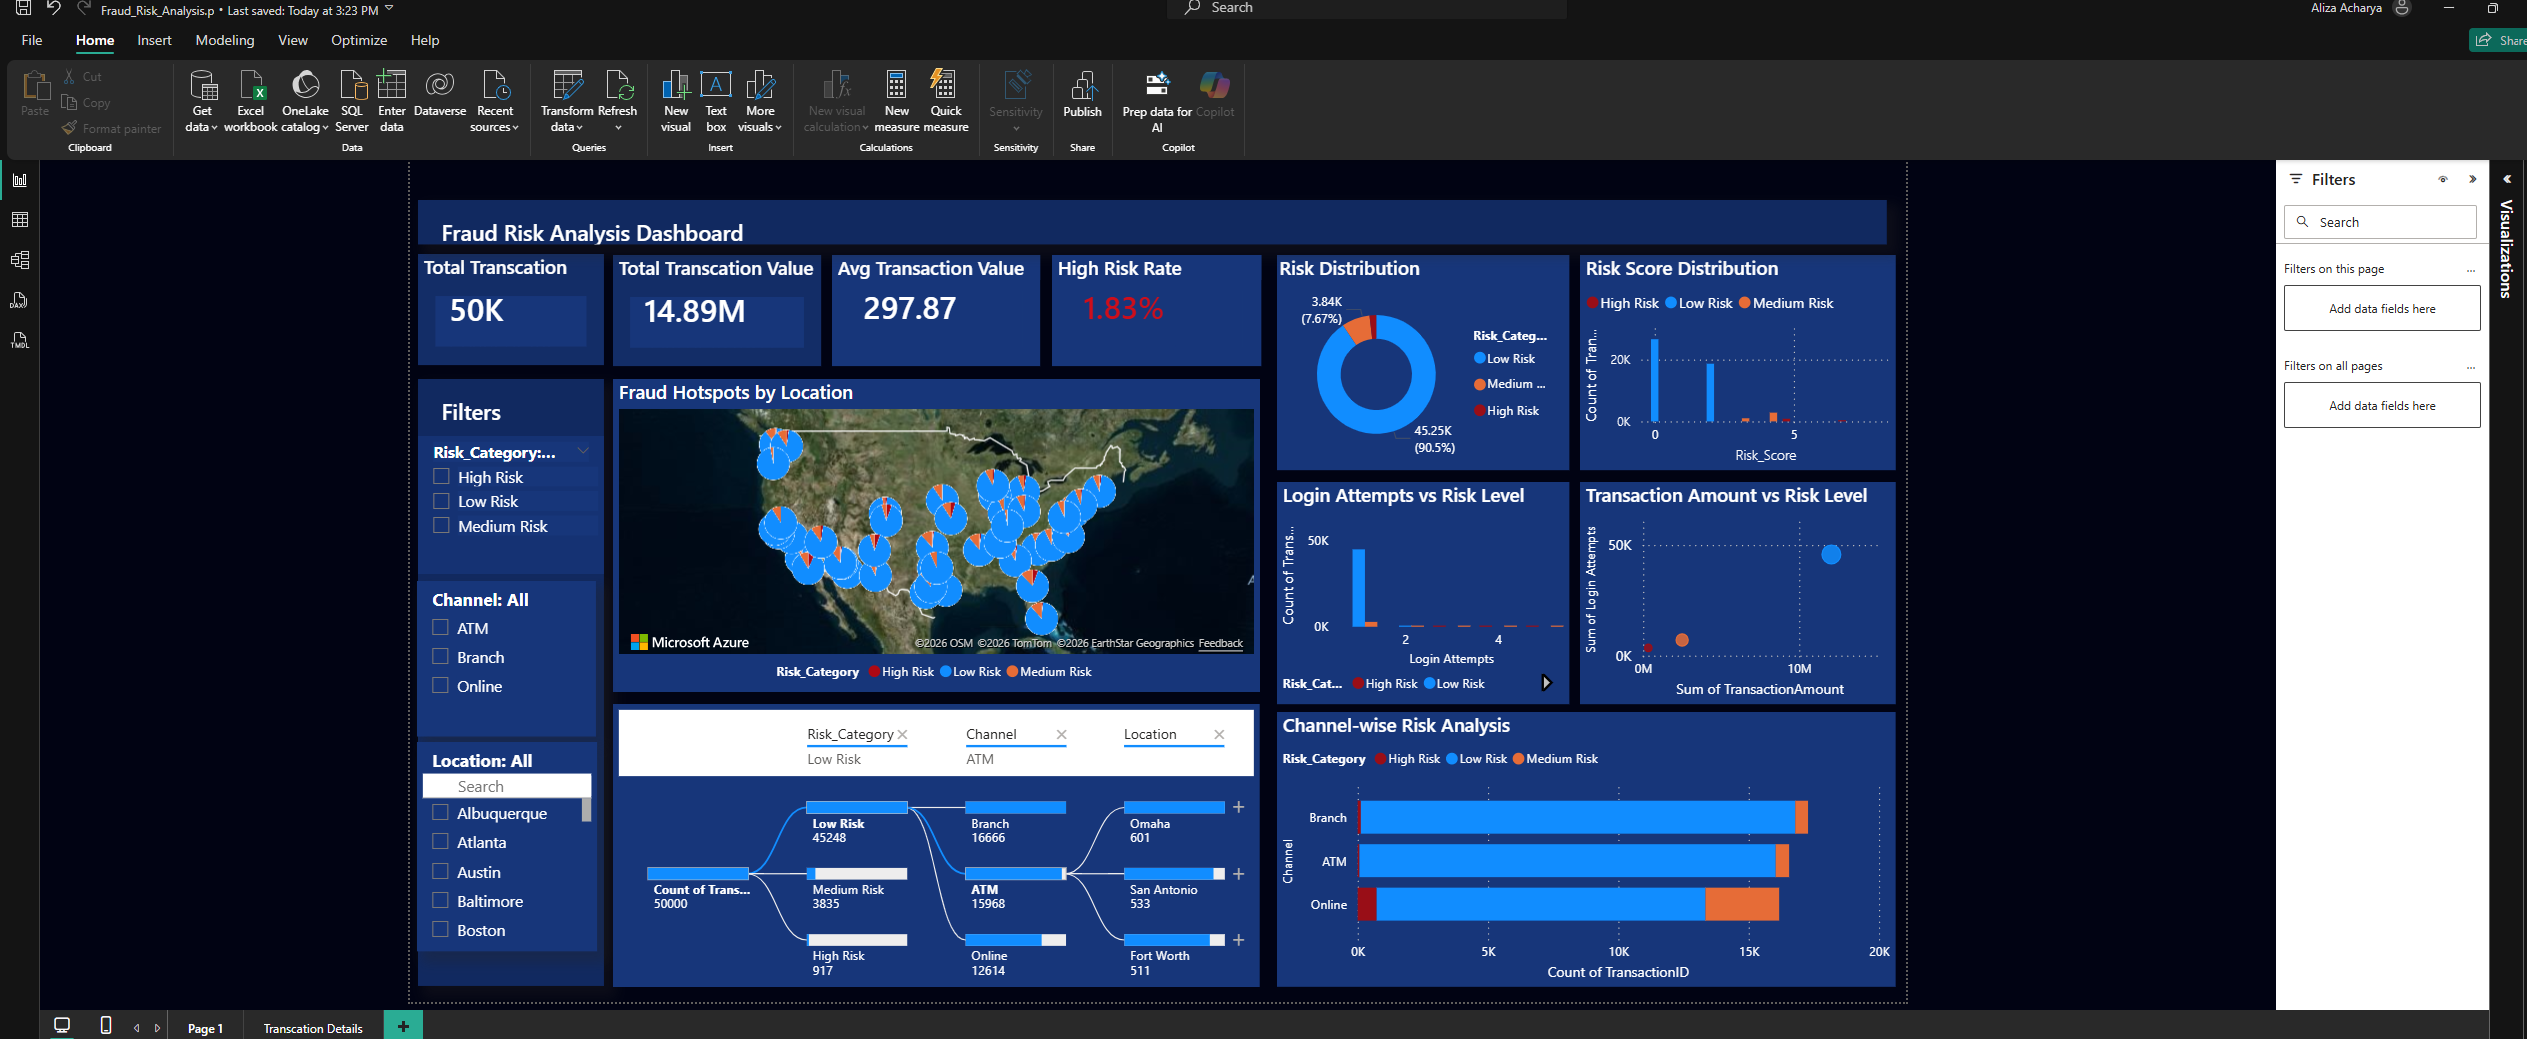

The page's visual inventory and layout, read from the dashboard file:
{"tool":"powerbi","page":{"name":"Page 1","canvas":[1280,720],"ordinal":0},"visuals":[{"type":"textbox","title":"Filters","box":[6.9,187.5,159,519.3],"z":0},{"type":"cardVisual","title":"Total Transcation","fields":{"Data":["CountNonNull(fraud_risk_analysis_transactions csv.TransactionID)"]},"box":[6.9,80.5,159,95.2],"z":2000},{"type":"cardVisual","title":"Avg Transaction Value","fields":{"Data":["Avg(fraud_risk_analysis_transactions csv.TransactionAmount)"]},"box":[361.2,81.5,178,95],"z":3000},{"type":"barChart","title":"Channel-wise Risk Analysis","fields":{"Y":["CountNonNull(fraud_risk_analysis_transactions csv.TransactionID)"],"Category":["fraud_risk_analysis_transactions csv.Channel"],"Series":["fraud_risk_analysis_transactions csv.Risk_Category"]},"box":[741.5,472.3,528.8,234.8],"z":4000},{"type":"clusteredColumnChart","title":"Login Attempts vs Risk Level","fields":{"Category":["fraud_risk_analysis_transactions csv.LoginAttempts"],"Y":["CountNonNull(fraud_risk_analysis_transactions csv.TransactionID)"],"Series":["fraud_risk_analysis_transactions csv.Risk_Category"]},"box":[741.5,275.4,249.8,189.8],"z":5000},{"type":"donutChart","title":"Risk Distribution","fields":{"Category":["fraud_risk_analysis_transactions csv.Risk_Category"],"Y":["CountNonNull(fraud_risk_analysis_transactions csv.TransactionID)"]},"box":[741.5,81.2,249.8,183.6],"z":6000},{"type":"clusteredColumnChart","title":"Risk Score Distribution","fields":{"Category":["fraud_risk_analysis_transactions csv.Risk_Score"],"Y":["CountNonNull(fraud_risk_analysis_transactions csv.TransactionID)"],"Series":["fraud_risk_analysis_transactions csv.Risk_Category"]},"box":[1000.2,81.2,270.1,183.6],"z":7000},{"type":"scatterChart","title":"Transaction Amount vs Risk Level","fields":{"X":["Sum(fraud_risk_analysis_transactions csv.TransactionAmount)"],"Y":["Sum(fraud_risk_analysis_transactions csv.LoginAttempts)"],"Size":["Sum(fraud_risk_analysis_transactions csv.Risk_Score)"],"Series":["fraud_risk_analysis_transactions csv.Risk_Category"]},"box":[1000.2,275.4,270.1,189.8],"z":8000},{"type":"azureMap","title":"Fraud Hotspots by Location","fields":{"Category":["fraud_risk_analysis_transactions csv.Location"],"Size":["CountNonNull(fraud_risk_analysis_transactions csv.TransactionID)"],"Series":["fraud_risk_analysis_transactions csv.Risk_Category"]},"box":[173.9,187.1,553.5,267.5],"z":10000},{"type":"slicer","fields":{"Values":["fraud_risk_analysis_transactions csv.Risk_Category"]},"box":[6.9,235.6,159,117.8],"z":11000},{"type":"slicer","fields":{"Values":["fraud_risk_analysis_transactions csv.Channel"]},"box":[5.9,360.2,153.1,133.5],"z":12000},{"type":"slicer","fields":{"Values":["fraud_risk_analysis_transactions csv.Location"]},"box":[5.9,497.7,154.1,178.7],"z":13000},{"type":"cardVisual","title":"Total Transcation Value","fields":{"Data":["Sum(fraud_risk_analysis_transactions csv.TransactionAmount)"]},"box":[173.7,81.5,178,95],"z":14000},{"type":"textbox","title":"Fraud Risk Analysis Dashboard","box":[6.9,34.4,1256.4,38.3],"z":15000},{"type":"cardVisual","title":"High Risk Rate","fields":{"Data":["fraud_risk_analysis_transactions csv.HighRisk %"]},"box":[548.7,81.5,178.7,95.2],"z":16000},{"type":"decompositionTreeVisual","fields":{"Analyze":["CountNonNull(fraud_risk_analysis_transactions csv.TransactionID)"],"ExplainBy":["fraud_risk_analysis_transactions csv.Risk_Category","fraud_risk_analysis_transactions csv.Channel","fraud_risk_analysis_transactions csv.Location","fraud_risk_analysis_transactions csv.LoginAttempts"]},"box":[173.9,465.2,553.5,241.9],"z":17000}]}

Visuals, with their boxes on the page's 1280x720 design canvas (x1, y1, x2, y2). These are canvas units, not pixel positions in the 2527x1039 screenshot, which may show the page scaled, cropped or inside an application window:
"Filters" textbox: region(7, 188, 166, 707)
"Total Transcation" cardVisual: region(7, 80, 166, 176)
"Avg Transaction Value" cardVisual: region(361, 82, 539, 176)
"Channel-wise Risk Analysis" barChart: region(742, 472, 1270, 707)
"Login Attempts vs Risk Level" clusteredColumnChart: region(742, 275, 991, 465)
"Risk Distribution" donutChart: region(742, 81, 991, 265)
"Risk Score Distribution" clusteredColumnChart: region(1000, 81, 1270, 265)
"Transaction Amount vs Risk Level" scatterChart: region(1000, 275, 1270, 465)
"Fraud Hotspots by Location" azureMap: region(174, 187, 727, 455)
slicer - fraud_risk_analysis_transactions csv.Risk_Category: region(7, 236, 166, 353)
slicer - fraud_risk_analysis_transactions csv.Channel: region(6, 360, 159, 494)
slicer - fraud_risk_analysis_transactions csv.Location: region(6, 498, 160, 676)
"Total Transcation Value" cardVisual: region(174, 82, 352, 176)
"Fraud Risk Analysis Dashboard" textbox: region(7, 34, 1263, 73)
"High Risk Rate" cardVisual: region(549, 82, 727, 177)
decompositionTreeVisual - CountNonNull(fraud_risk_analysis_transactions csv.TransactionID) x fraud_risk_analysis_transactions csv.Risk_Category: region(174, 465, 727, 707)
